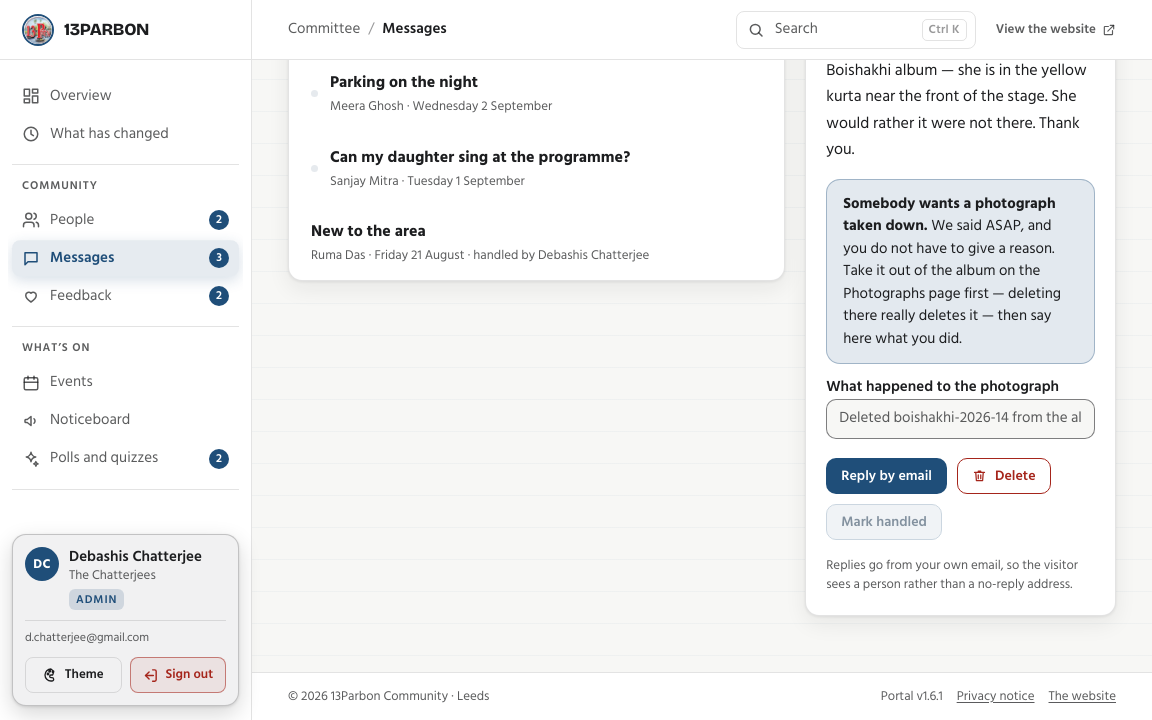
Test: deleting a message › says in the dialog when it did not delete, and keeps the message
This screenshot has width=1152, height=720.
(page scrolled)
What coordinates should you click on to do the following:
click the button "Delete"
I would click on:
 (1004, 476)
Its box is [957,458,1051,494].
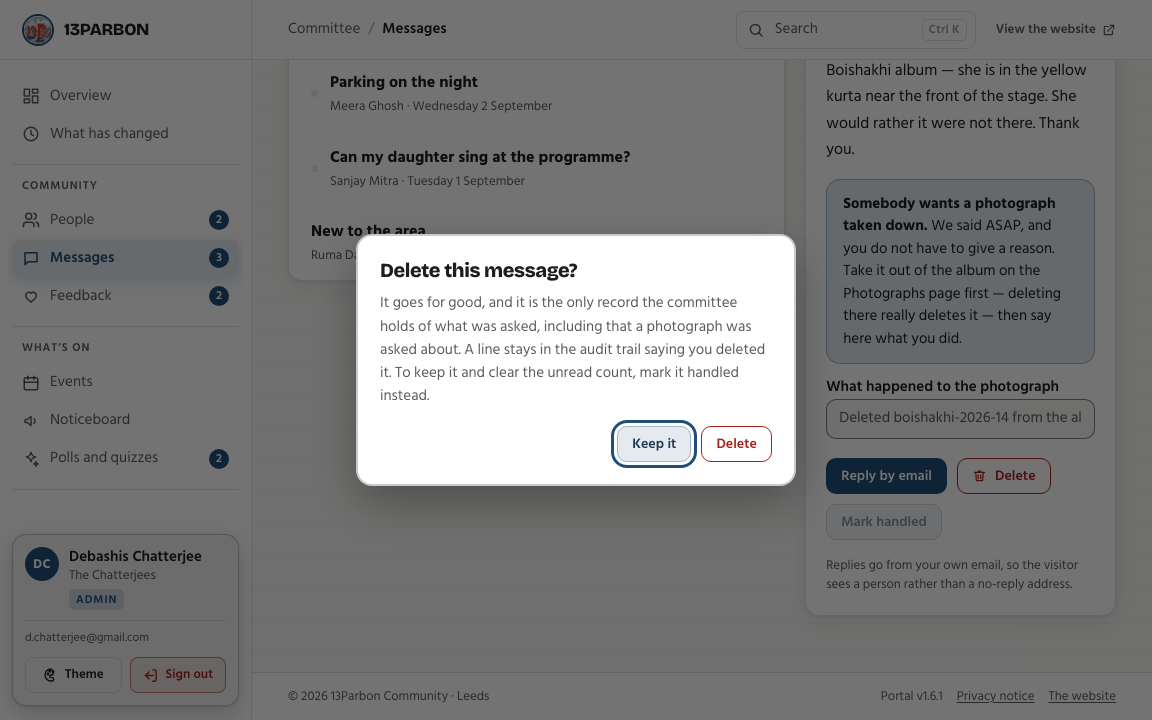
What coordinates should you click on to do the following:
click the button "Delete"
I would click on:
 (737, 444)
Its box is [701,426,772,462].
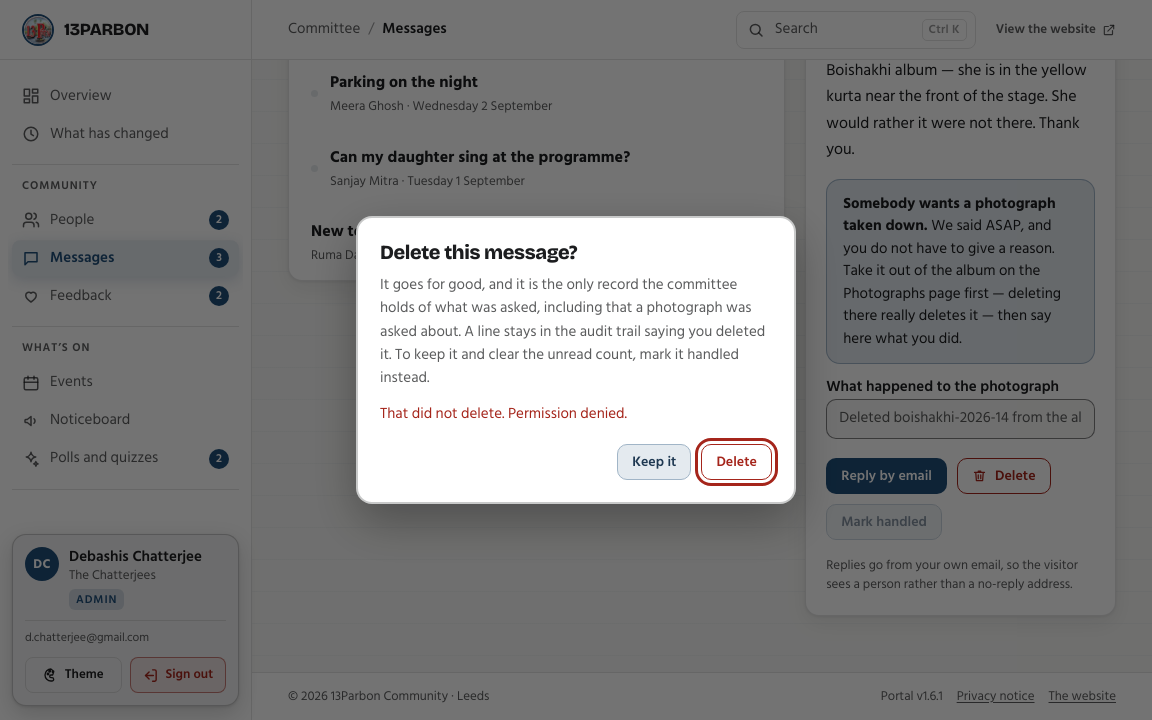
Result: the message reads "That did not delete. Permission denied." at [380,401,627,426]
